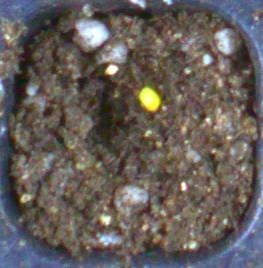pepper seed: (56, 30, 219, 143)
